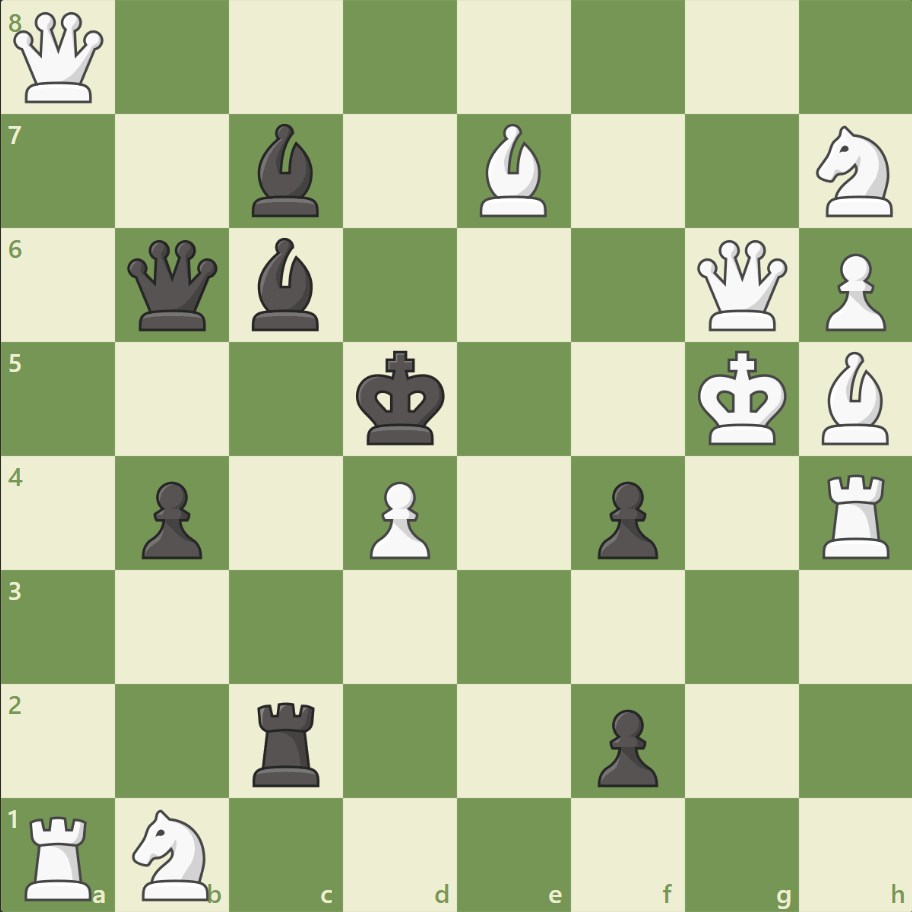B: (471, 120, 555, 222), (812, 347, 896, 449)
K: (692, 344, 792, 452)
N: (124, 802, 222, 904), (806, 121, 903, 223)
P: (815, 246, 889, 337), (361, 473, 435, 564)
Q: (10, 9, 109, 108), (691, 236, 790, 335)
R: (19, 806, 102, 904), (814, 466, 897, 563)
b: (244, 233, 328, 336), (244, 120, 328, 222)
k: (351, 344, 451, 452)
p: (133, 473, 208, 564), (588, 473, 662, 564), (588, 700, 662, 791)
q: (124, 236, 223, 335)
r: (246, 693, 329, 790)
